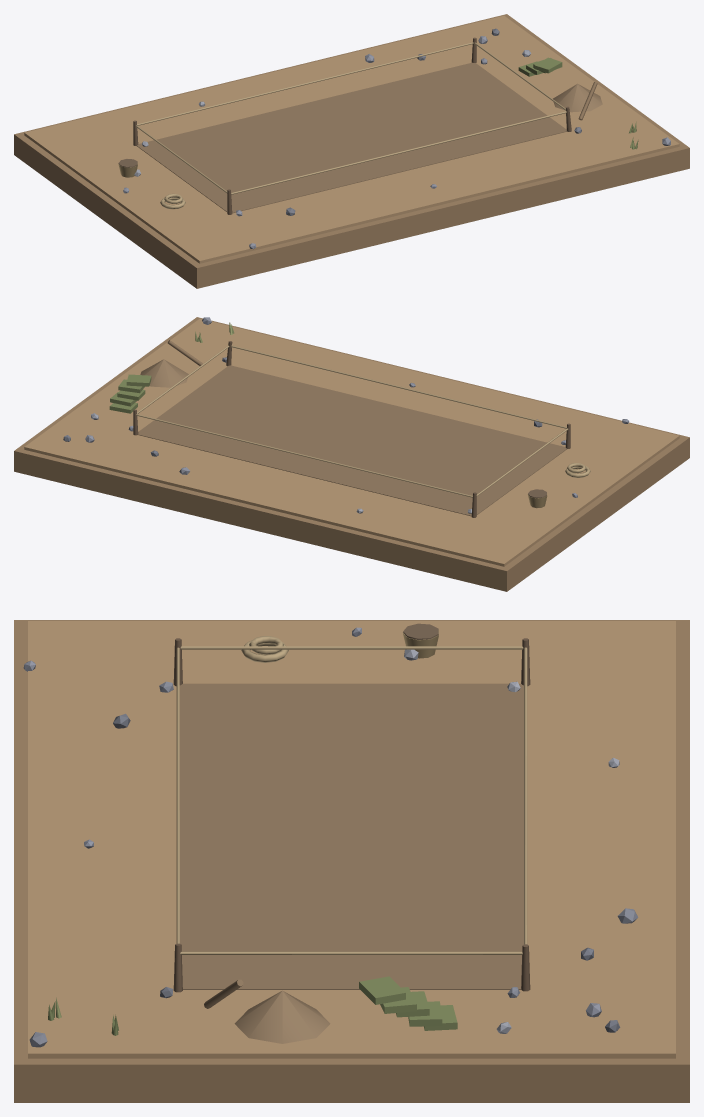
Rendered from num-f-site.glb.
3 renders of one model, top to bottom at view 1: azimuth 30°, elevation 25°; view 2: azimuth 150°, elevation 25°; view 3: azimuth 270°, elevation 25°, orthographic. The views are drawn at different scales.
Visible parts, largest first — view 1: era1; view 2: era1; view 3: era1.
Part boxes in pixels (box(x1,y1,x2,y2)): era1: box(14, 14, 689, 288); era1: box(14, 317, 689, 591); era1: box(14, 620, 689, 1102).
Size of the model in its own units: 22.4 by 2.18 by 14.4.
